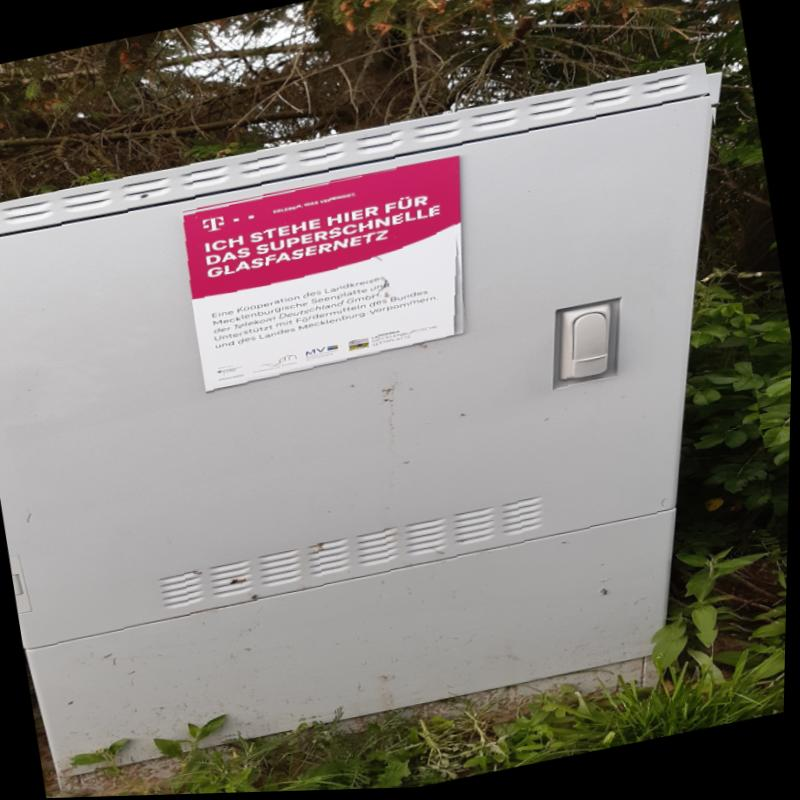NT-Gehause: (0, 60, 799, 780)
Steaker: (176, 160, 482, 397)
